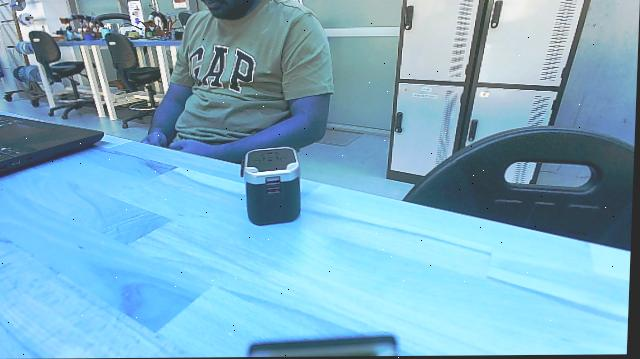adapter: (234, 141, 313, 232)
